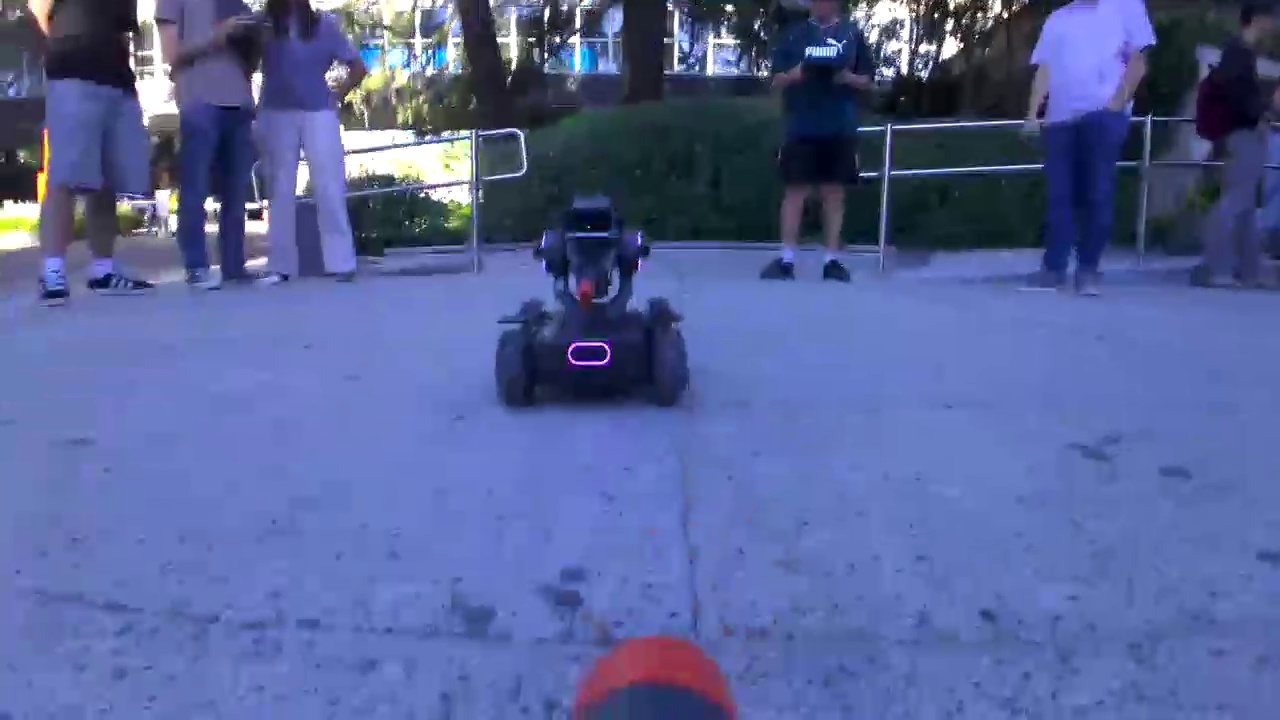robot: (494, 193, 692, 413)
